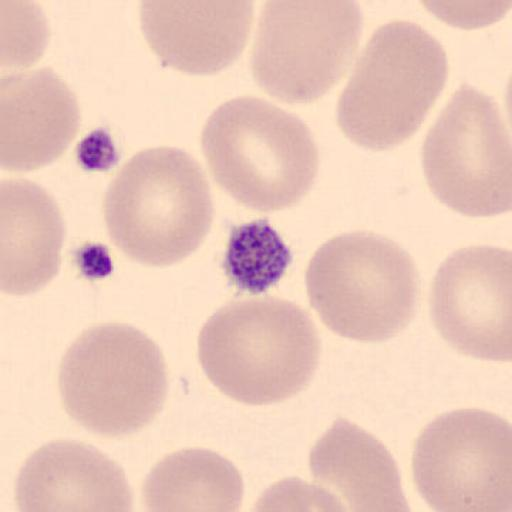Platelet: (219, 216, 296, 298), (68, 237, 118, 283)
RBC: (335, 19, 450, 153), (199, 92, 322, 215), (101, 143, 216, 270), (195, 294, 323, 408), (303, 227, 421, 346), (56, 320, 172, 440), (419, 82, 512, 223), (248, 0, 365, 107), (409, 405, 512, 511), (426, 241, 512, 363), (306, 414, 413, 512), (12, 437, 136, 512), (137, 0, 256, 78), (1, 66, 84, 174), (1, 176, 67, 298), (139, 444, 246, 512), (240, 474, 358, 512), (2, 0, 52, 72), (414, 0, 512, 31)
